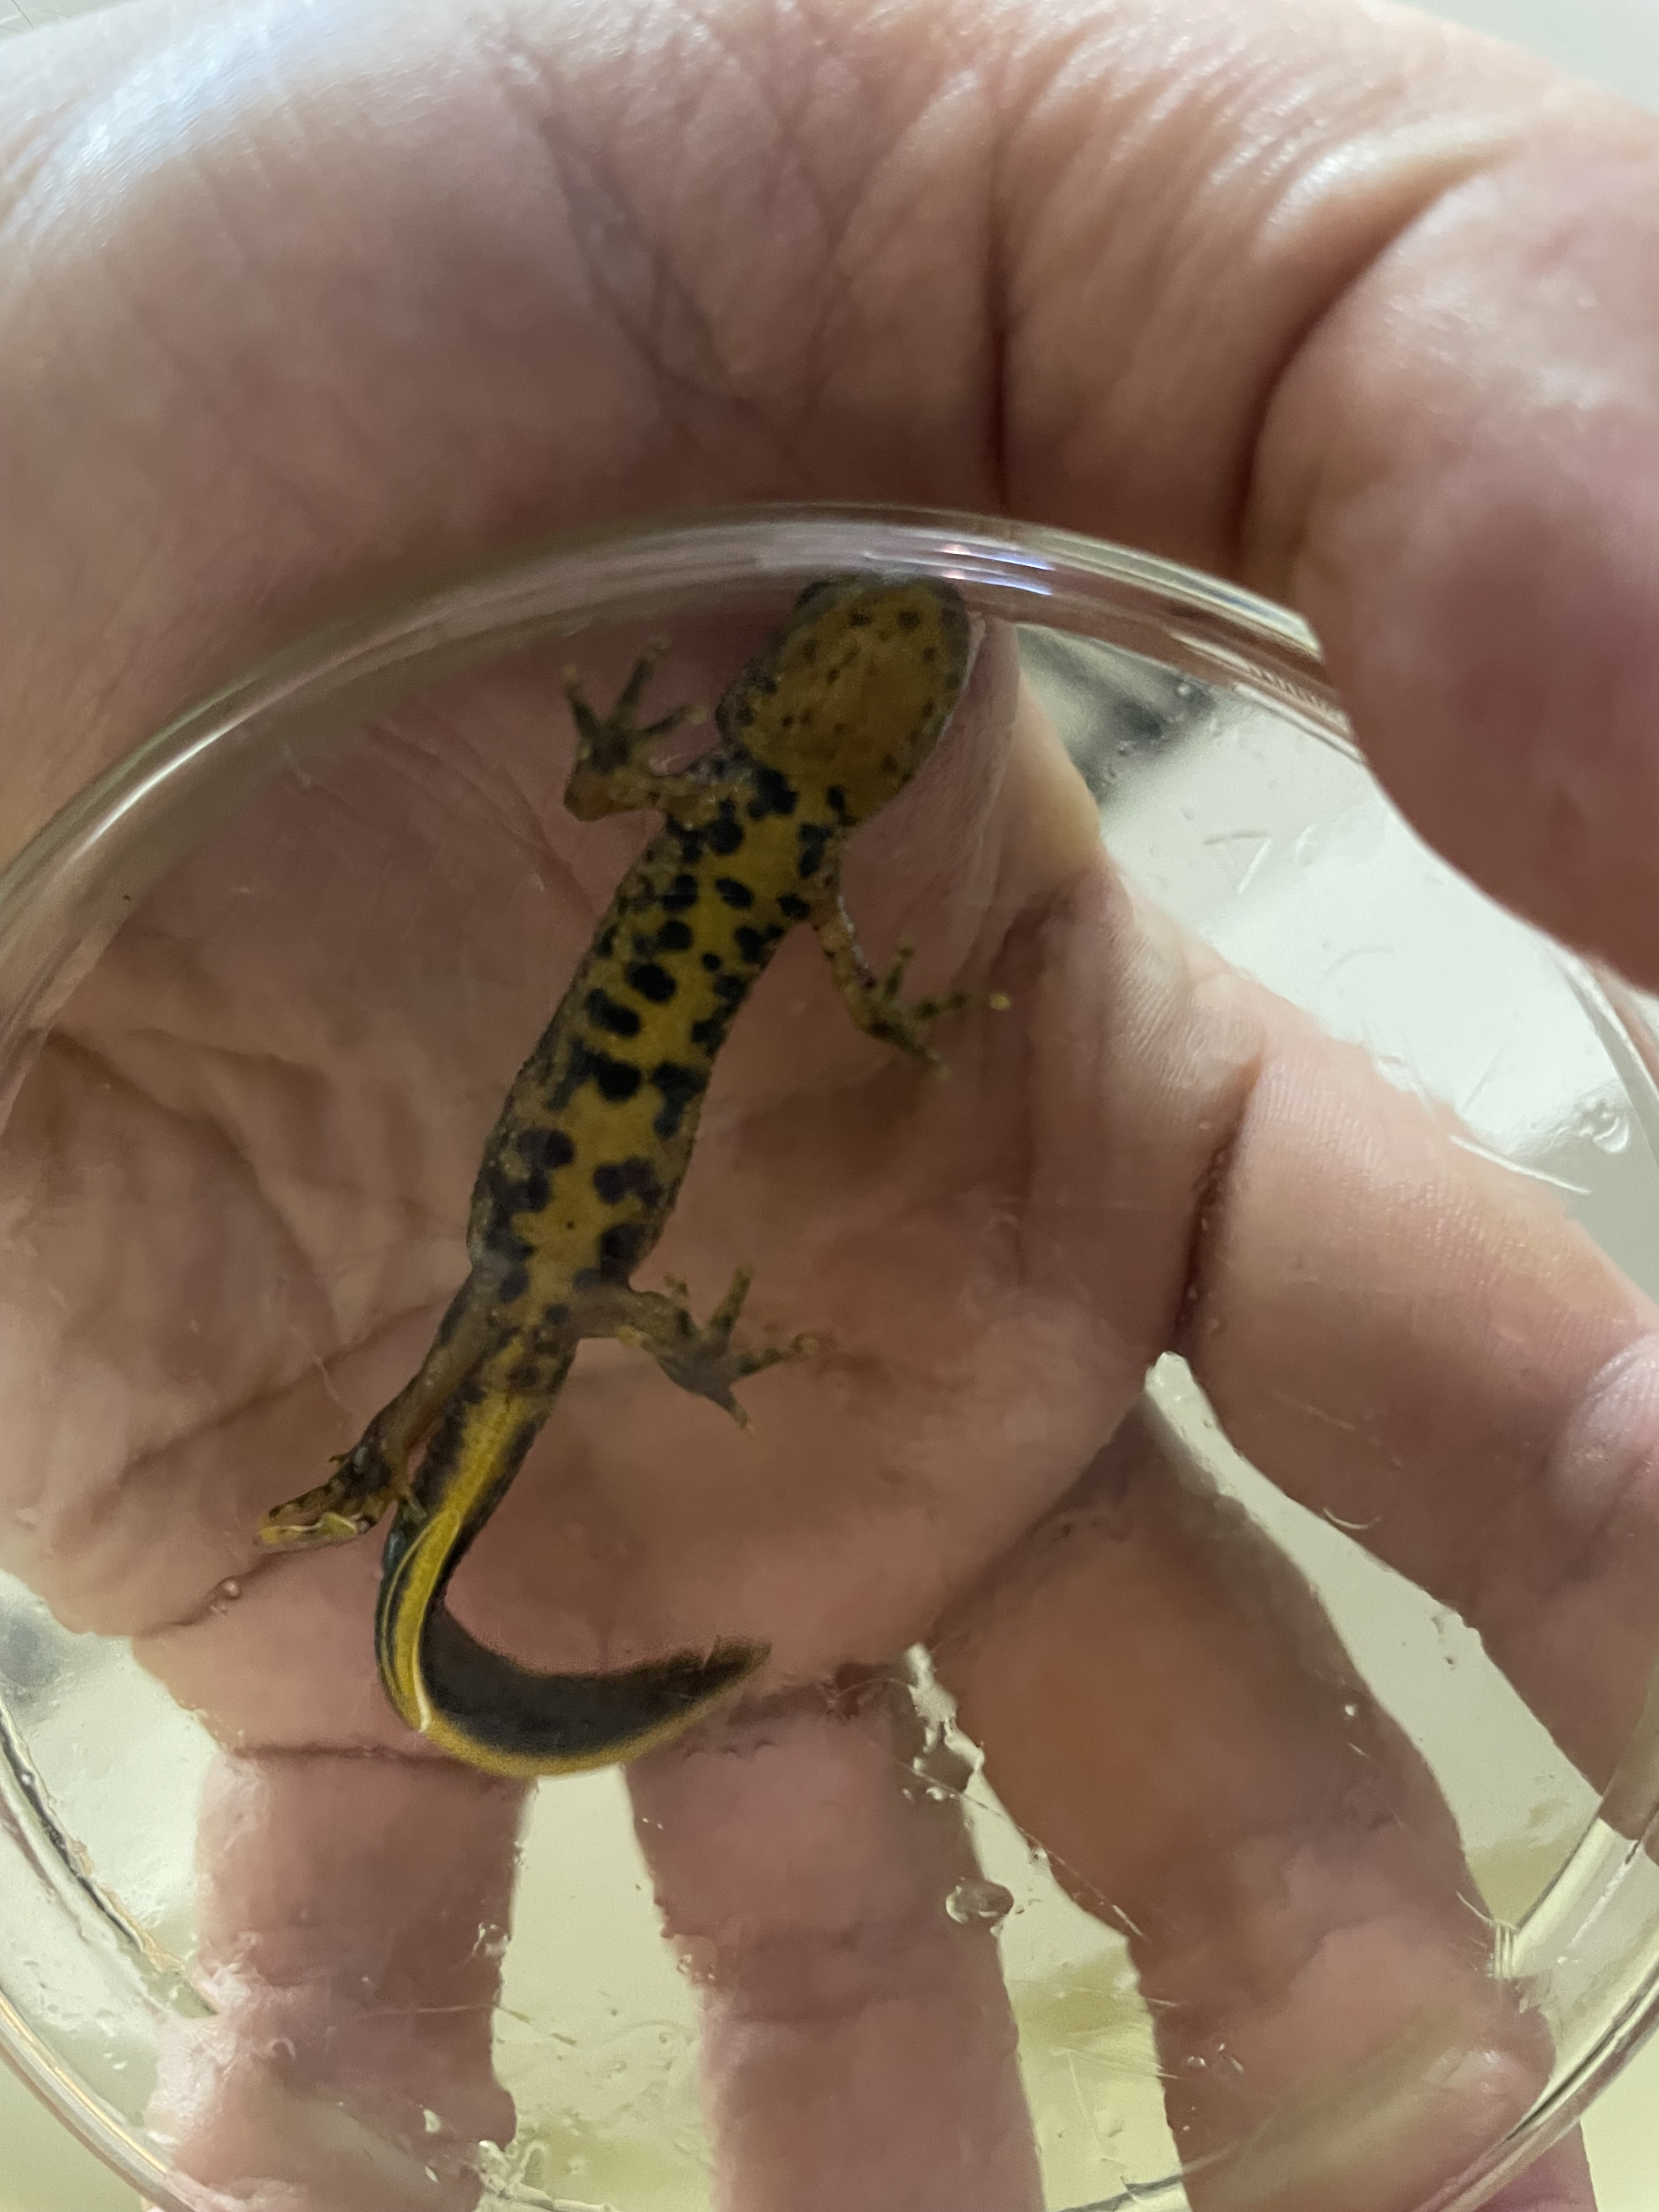Karelin_newt: (464, 820, 803, 1285)
